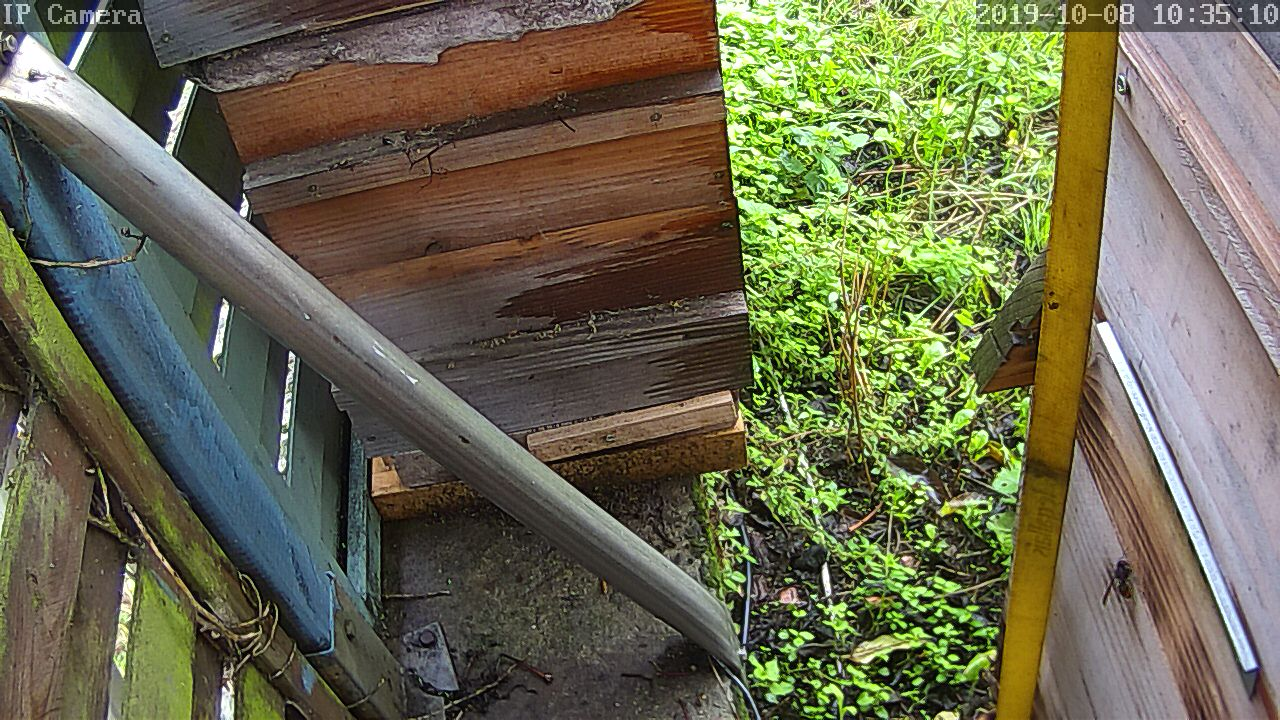hornet: (1100, 556, 1144, 609)
